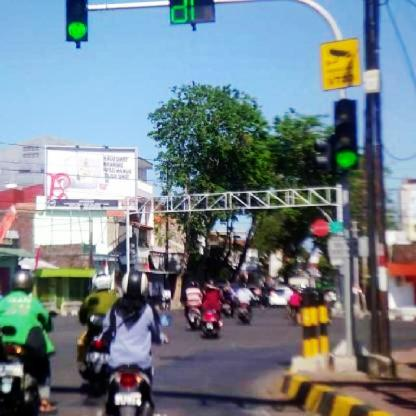Traffic Light -Green-: (332, 99, 358, 171), (65, 1, 89, 43)
